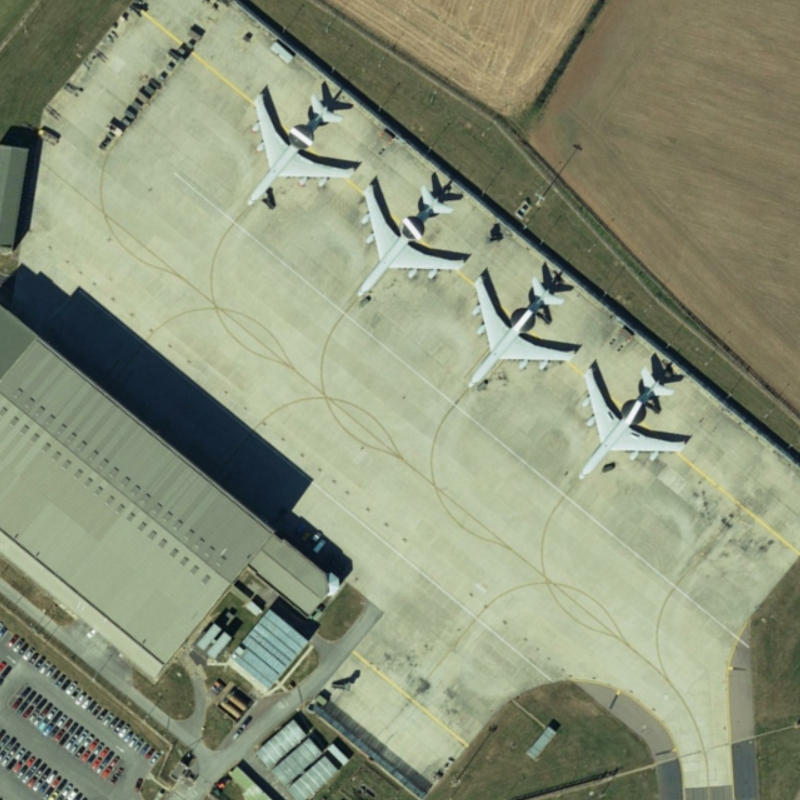A7: (566, 354, 694, 489), (457, 262, 582, 398), (350, 169, 474, 303), (238, 74, 360, 209)
